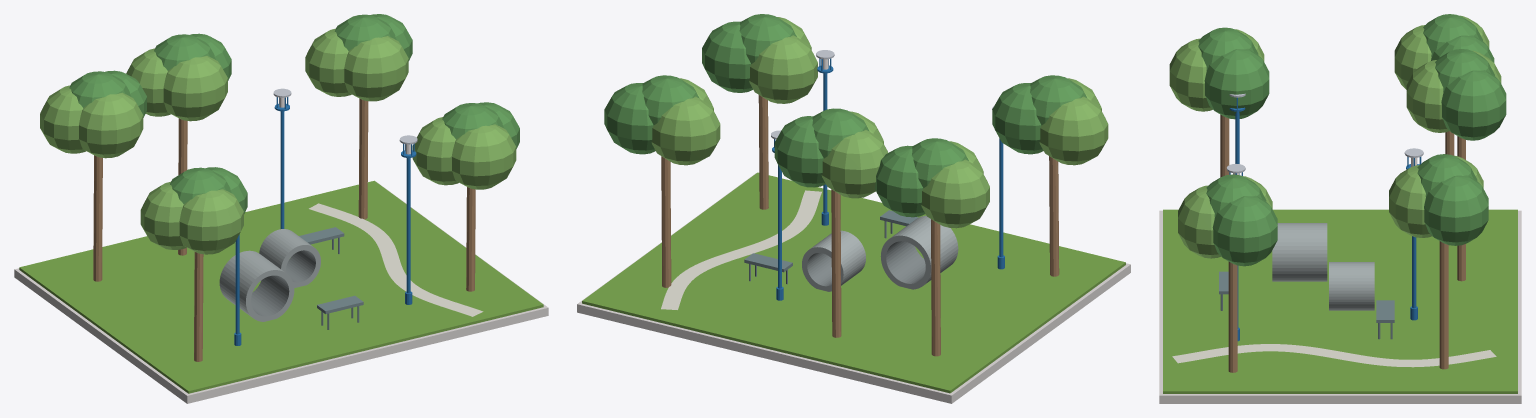
File: dot-P11.glb
The picture shows the model from 3 angles, left to right: view 1: azimuth 30°, elevation 25°; view 2: azimuth 150°, elevation 25°; view 3: azimuth 270°, elevation 25°; orthographic projection. The views are drawn at different scales.
Visible parts, largest first — view 1: pave; view 2: pave; view 3: pave.
Boxes of the visible parts, left/top/right/bottom form: pave: left=14, top=14, right=548, bottom=403; pave: left=577, top=14, right=1130, bottom=403; pave: left=1159, top=14, right=1521, bottom=403.
Size of the model in its own units: 6.35 by 3.65 by 5.04.
1 material, 1 textured.
